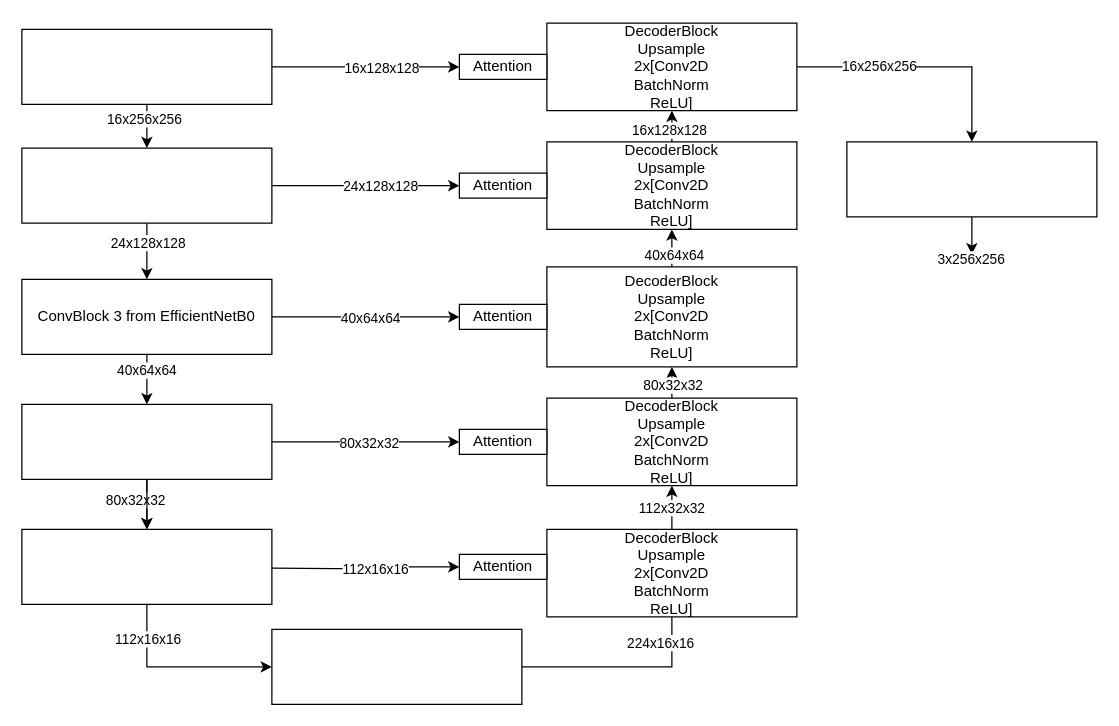
The diagram is 1119 pixels wide and 726 high, and some of its shapes have lost their labels. The centre of each missing label's shape, as x and y in pixels:
2x[ Conv2D(k=3,s=1,p=1) BatchNorm ReLU]: point 396,666
Conv2D: point 971,179
ConvBlock 2 from EfficientNetB0: point 146,185
ConvBlock 4 from EfficientNetB0: point 146,441
ConvBlock 5 from EfficientNetB0: point 146,566
Input Conv Layer + ConvBlock 1 from EfficientNetB0: point 146,66
